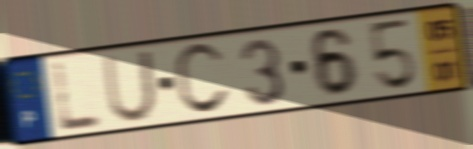3: (236, 35, 288, 108)
5: (364, 16, 420, 93)
6: (306, 25, 362, 100)
C: (171, 40, 233, 119)
L: (50, 58, 106, 135)
U: (101, 47, 159, 125)
